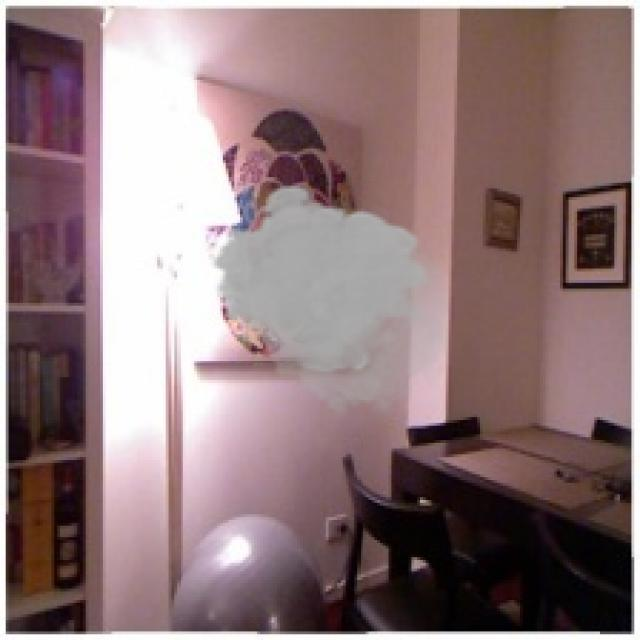Smoke: (208, 183, 448, 423)
